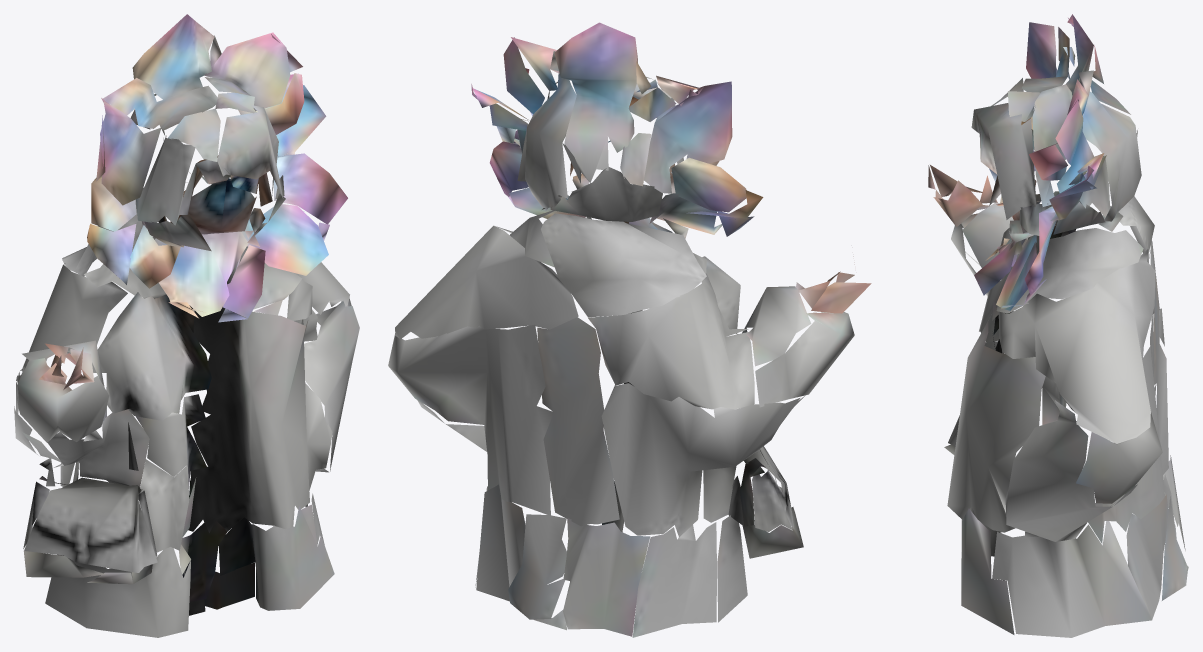
Rendered from crowd_editor_upper.glb.
3 renders of one model, left to right at view 1: azimuth 30°, elevation 25°; view 2: azimuth 150°, elevation 25°; view 3: azimuth 270°, elevation 25°, orthographic.
Parts seen in each view (by area): view 1: tripo_node_bf9fb8a6-23f6-4862-ac37-375ab1056567; view 2: tripo_node_bf9fb8a6-23f6-4862-ac37-375ab1056567; view 3: tripo_node_bf9fb8a6-23f6-4862-ac37-375ab1056567.
Boxes of the visible parts, x1,y1,x2,y2 form: tripo_node_bf9fb8a6-23f6-4862-ac37-375ab1056567: [14, 14, 359, 637]; tripo_node_bf9fb8a6-23f6-4862-ac37-375ab1056567: [388, 22, 871, 637]; tripo_node_bf9fb8a6-23f6-4862-ac37-375ab1056567: [928, 14, 1188, 637].
Size of the model in its own units: 0.4504 by 0.6024 by 0.2572.
Materials: 1 (1 with a texture image).
